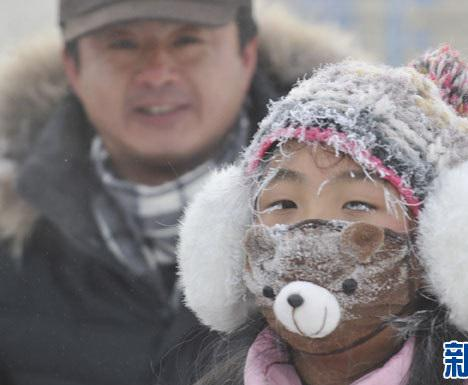NONE: (93, 24, 231, 149)
OK: (247, 160, 415, 328)
